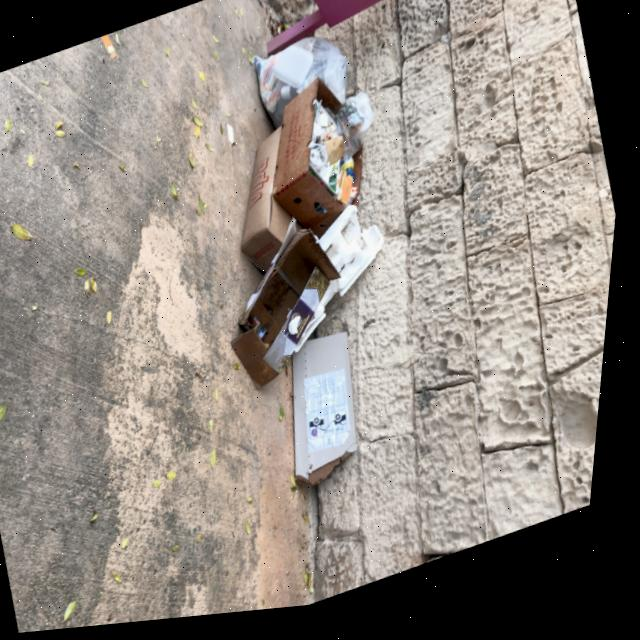Other: (213, 73, 402, 292), (212, 210, 371, 400), (267, 333, 399, 500), (238, 1, 444, 68), (303, 197, 407, 327)
Recycled Waste -Grey or Green Bag-: (250, 37, 365, 136), (342, 92, 384, 148)
